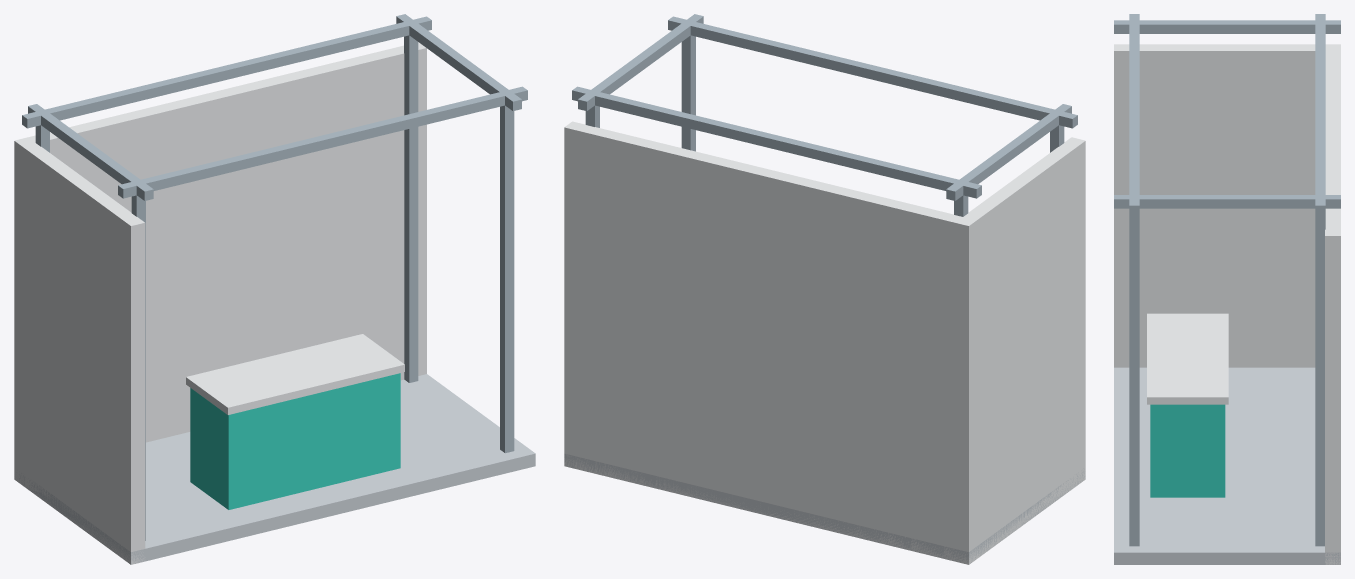
3 views of the same model, side by side, from view 1: azimuth 30°, elevation 25°; view 2: azimuth 150°, elevation 25°; view 3: azimuth 270°, elevation 25° (orthographic). The views are drawn at different scales.
Visible parts, largest first — view 1: Exhibition Booth Concept; view 2: Exhibition Booth Concept; view 3: Exhibition Booth Concept.
Boxes of the visible parts, left/top/right/bottom form: Exhibition Booth Concept: left=14, top=14, right=535, bottom=564; Exhibition Booth Concept: left=564, top=14, right=1085, bottom=564; Exhibition Booth Concept: left=1114, top=14, right=1340, bottom=564.
Size of the model in its own units: 4 by 3.49 by 2.
